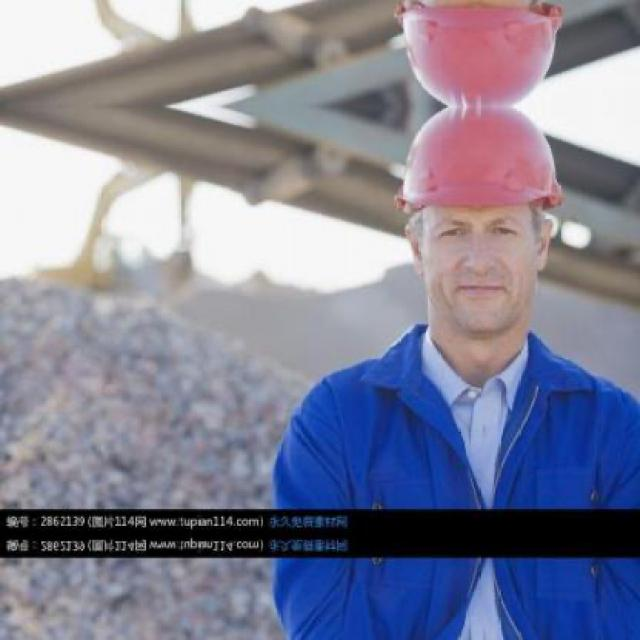helmet: (381, 106, 577, 362), (380, 0, 577, 108)
